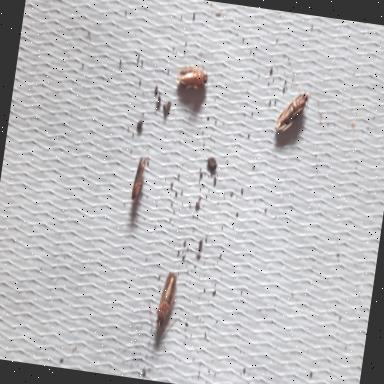pbw: (144, 267, 183, 332), (274, 79, 310, 138), (174, 60, 210, 98), (127, 154, 149, 206)
